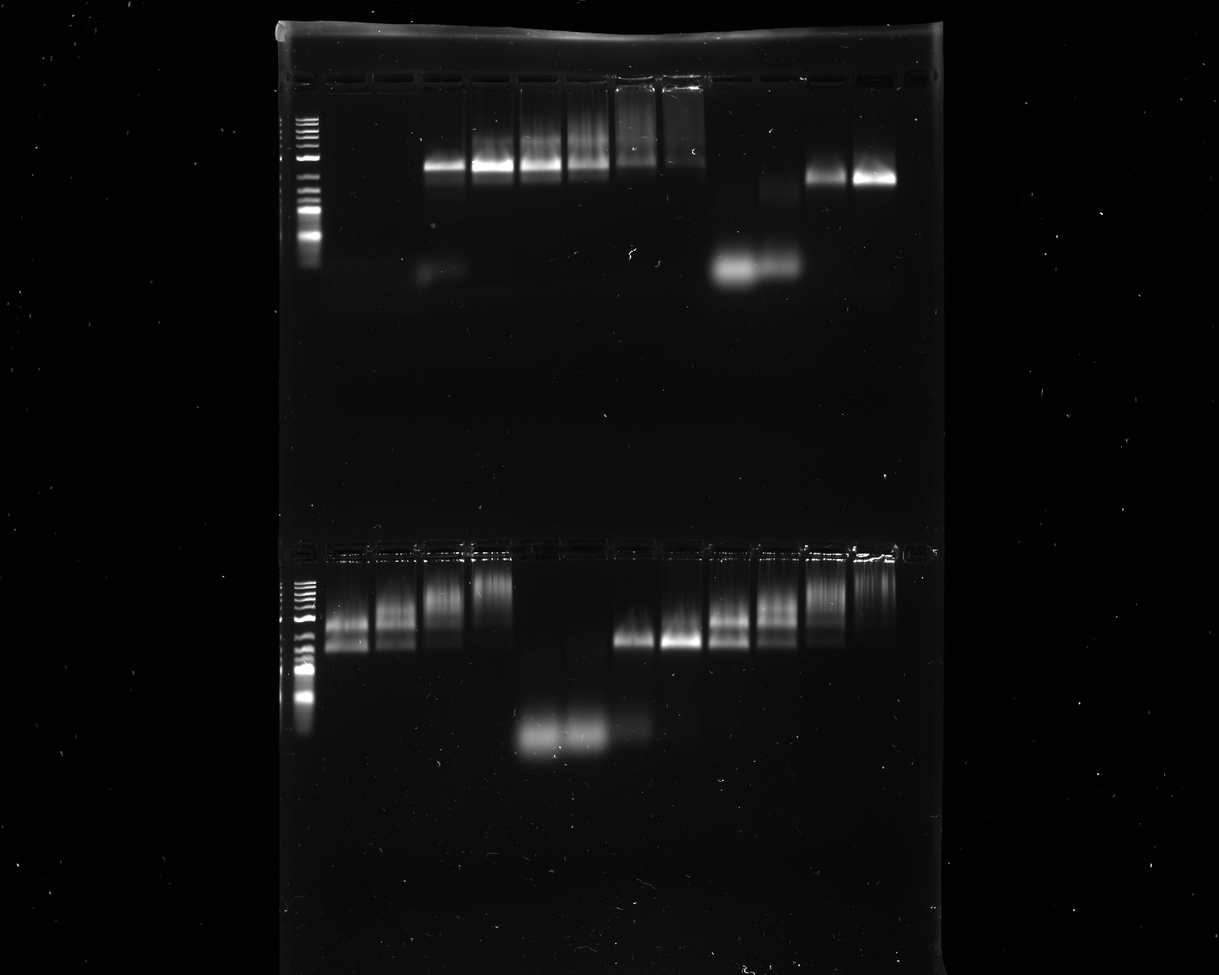Lane: (420, 36, 473, 963), (800, 33, 846, 965), (325, 0, 370, 952), (713, 42, 758, 975), (475, 37, 517, 963), (663, 33, 704, 965), (856, 45, 897, 967), (522, 42, 563, 962), (568, 47, 608, 975), (615, 40, 654, 975), (374, 18, 412, 975), (765, 40, 798, 975)
ladder: (276, 33, 320, 975)
